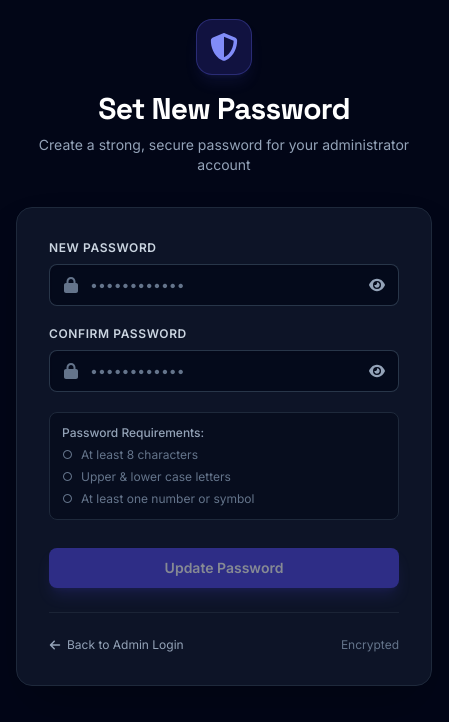
Test: Admin Dashboard & Authentication › AdminResetPassword handles new password validation and updates password
Expected: the heading "Set New Password" is shown, [98,88,350,128]
In the 1st password field with placeholder "••••••••••••": point(224, 284) [49,264,399,306], type "SecureP@ssw0rd2026"
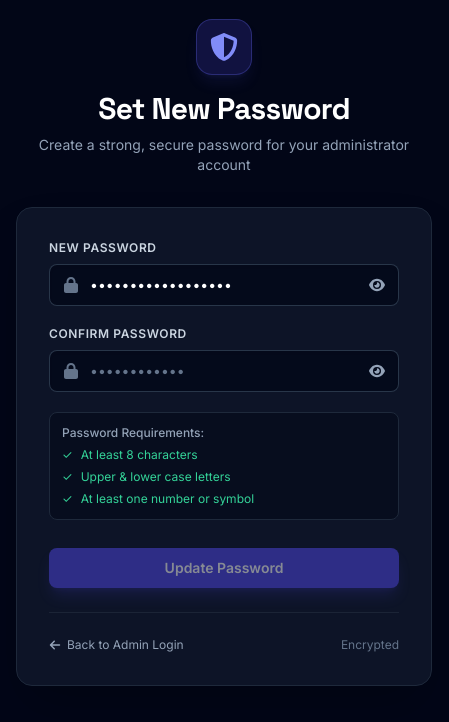
In the password field with placeholder "••••••••••••": point(224, 370) [49,350,399,392], type "SecureP@ssw0rd2026"
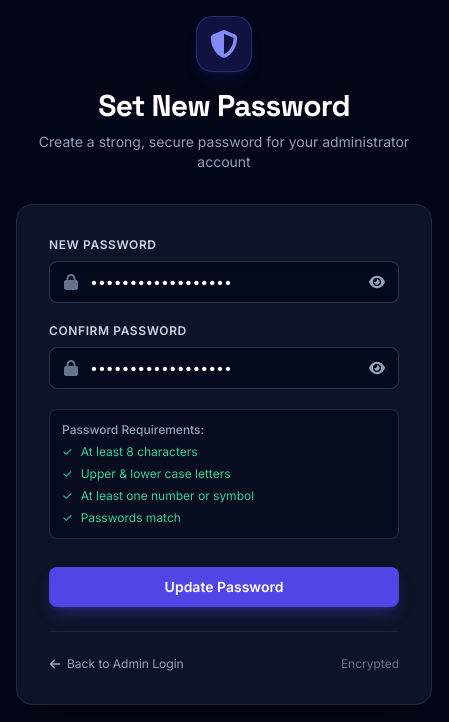
Now the button "Update Password" is enabled, box [49,567,399,607]
Submit the form named "Update Password", box [49,237,399,607]
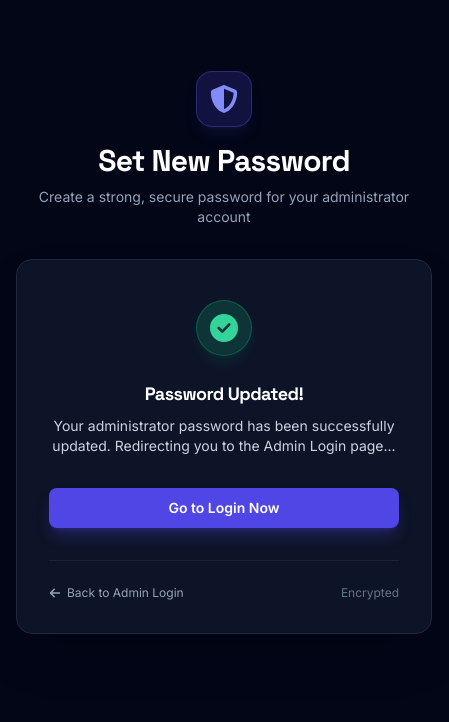
Now the heading "Password Updated!" is shown, box [145,382,303,404]
